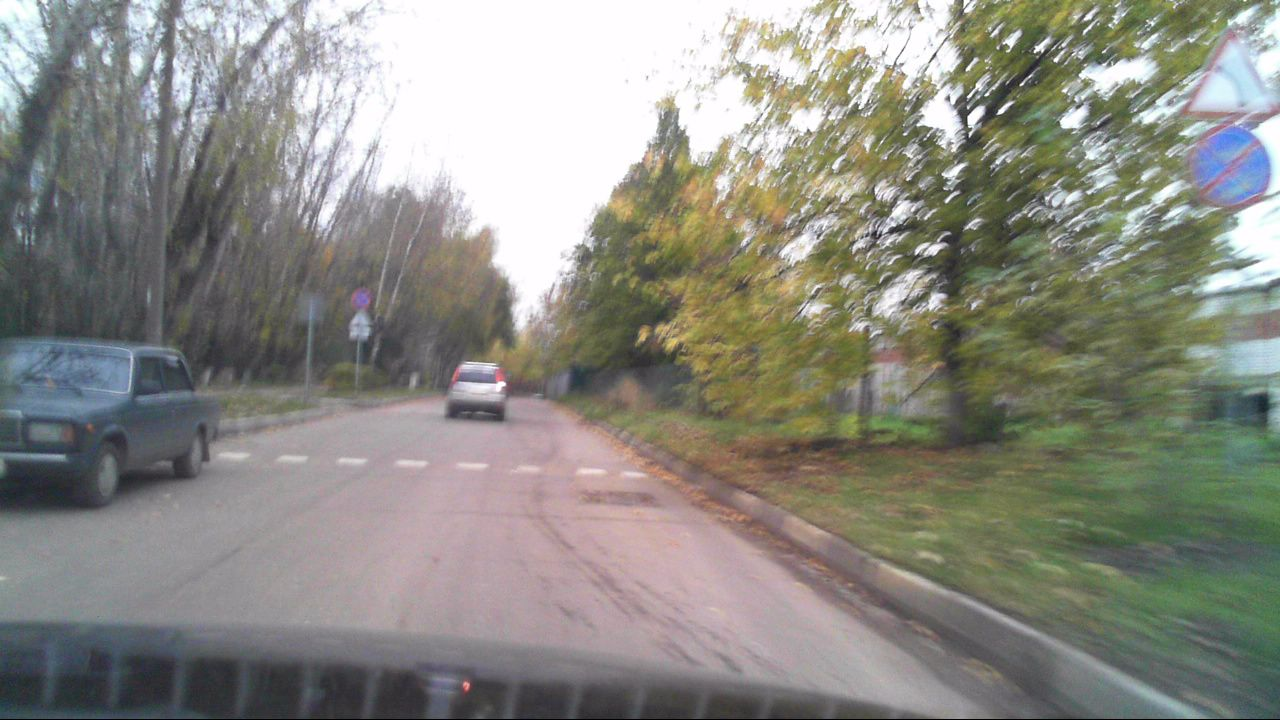No Parking: (1188, 124, 1271, 210)
